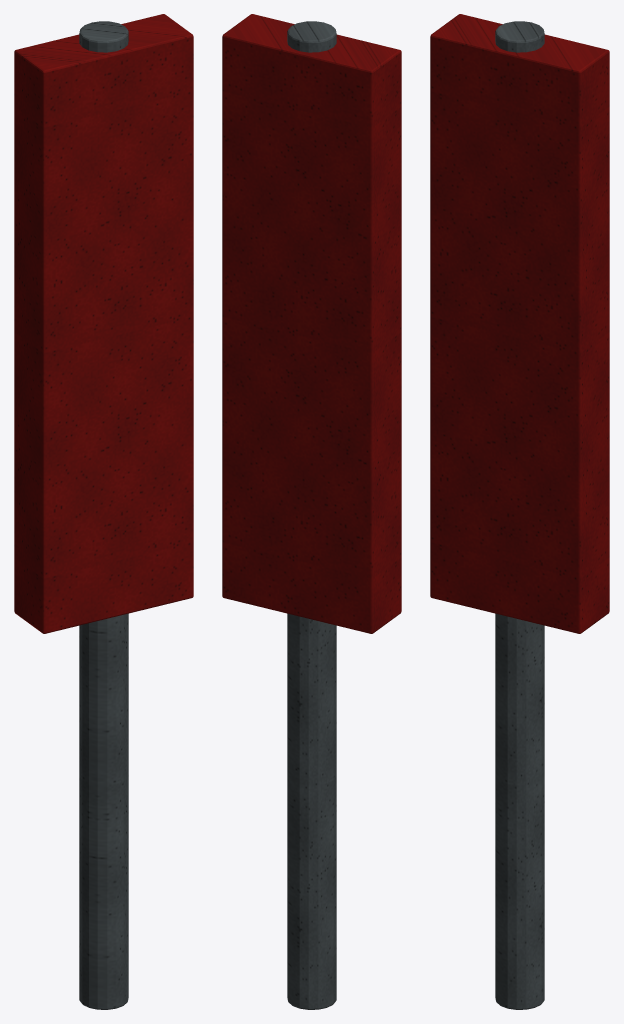
Rendered from PROP-336B99EB1AE5_lod0.glb.
The picture shows the model from 3 angles, left to right: view 1: azimuth 30°, elevation 25°; view 2: azimuth 150°, elevation 25°; view 3: azimuth 330°, elevation 25°; orthographic projection.
Parts seen in each view (by area): view 1: motel_vertical_sign, motel_post; view 2: motel_vertical_sign, motel_post; view 3: motel_vertical_sign, motel_post.
Part boxes in pixels (x1,y1,x2,y2): motel_vertical_sign: (14, 14, 193, 633); motel_post: (79, 21, 128, 1009); motel_vertical_sign: (222, 14, 401, 633); motel_post: (287, 21, 336, 1009); motel_vertical_sign: (430, 14, 609, 633); motel_post: (495, 21, 544, 1009).
Bounding box in the file's own units: 0.7 × 4.3 × 0.24.
Materials: 2 (2 with a texture image).
